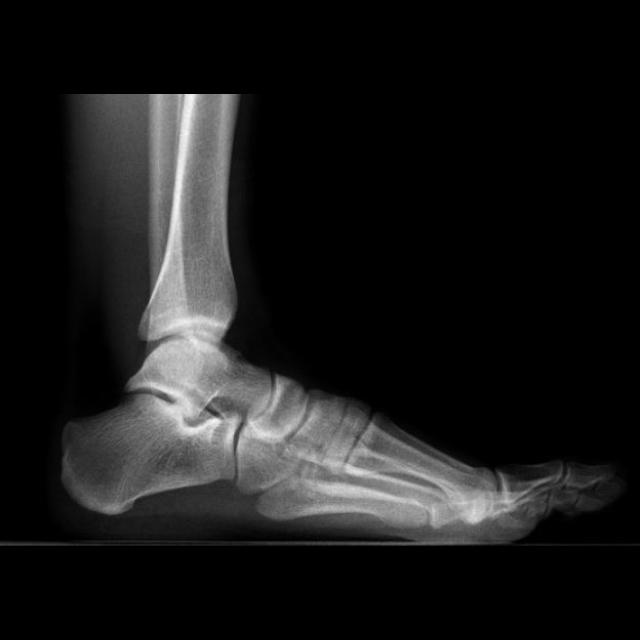a: (62, 394, 240, 515)
b: (242, 375, 307, 438)
c: (334, 408, 499, 522)
